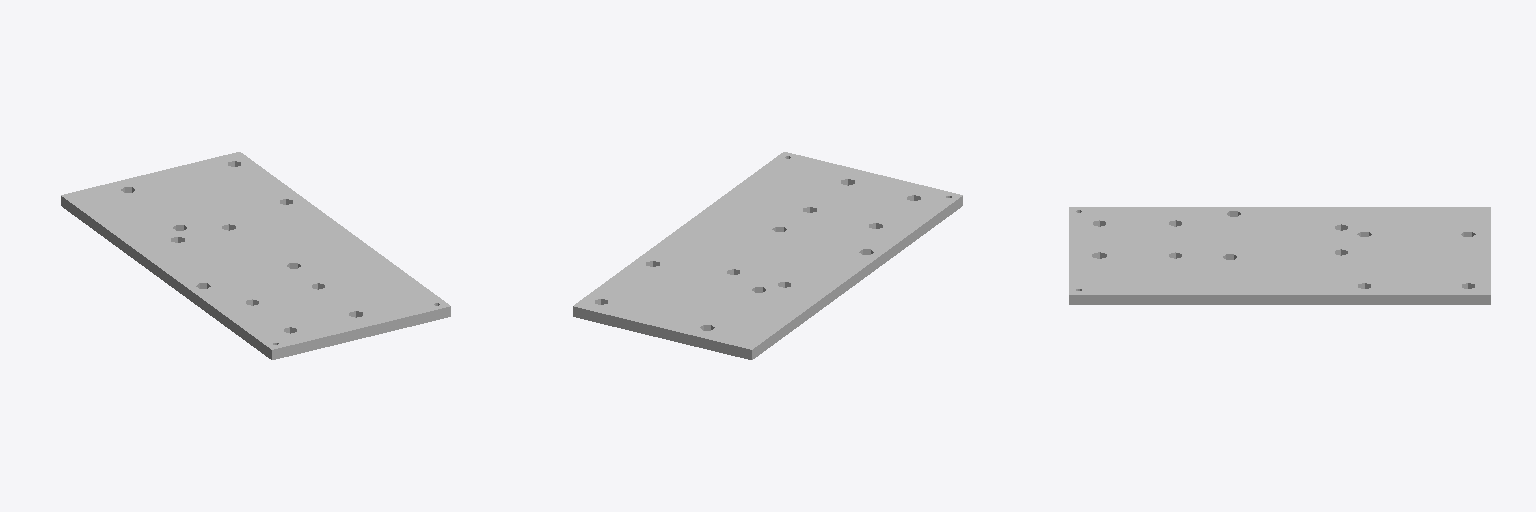
File: мат плата для электроники.obj
3 renders of one model, left to right at view 1: azimuth 30°, elevation 25°; view 2: azimuth 150°, elevation 25°; view 3: azimuth 270°, elevation 25°, orthographic.
Parts seen in each view (by area): view 1: Твердое тело1; view 2: Твердое тело1; view 3: Твердое тело1.
Part boxes in pixels (x1,y1,x2,y2): Твердое тело1: (61,152,450,359); Твердое тело1: (573,152,962,359); Твердое тело1: (1069,207,1490,304).
Bounding box in the file's own units: 98 × 5.5 × 200.